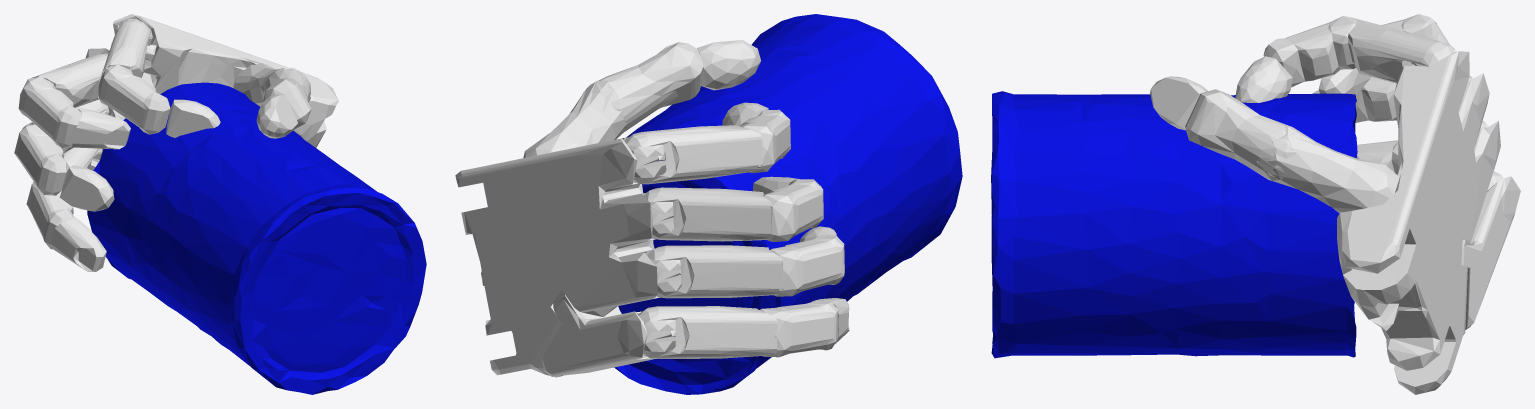
Rendered from graspit_shadow_can.glb.
3 renders of one model, left to right at view 1: azimuth 30°, elevation 25°; view 2: azimuth 150°, elevation 25°; view 3: azimuth 270°, elevation 25°, orthographic. The views are drawn at different scales.
Parts seen in each view (by area): view 1: object, hand; view 2: hand, object; view 3: object, hand.
Part boxes in pixels (x1,y1,x2,y2): object: (87, 82, 426, 394); hand: (14, 14, 338, 271); hand: (455, 40, 849, 377); object: (614, 14, 962, 394); object: (991, 91, 1357, 358); hand: (1150, 14, 1520, 394).
Size of the model in its own units: 0.1642 by 0.1238 by 0.2028.
